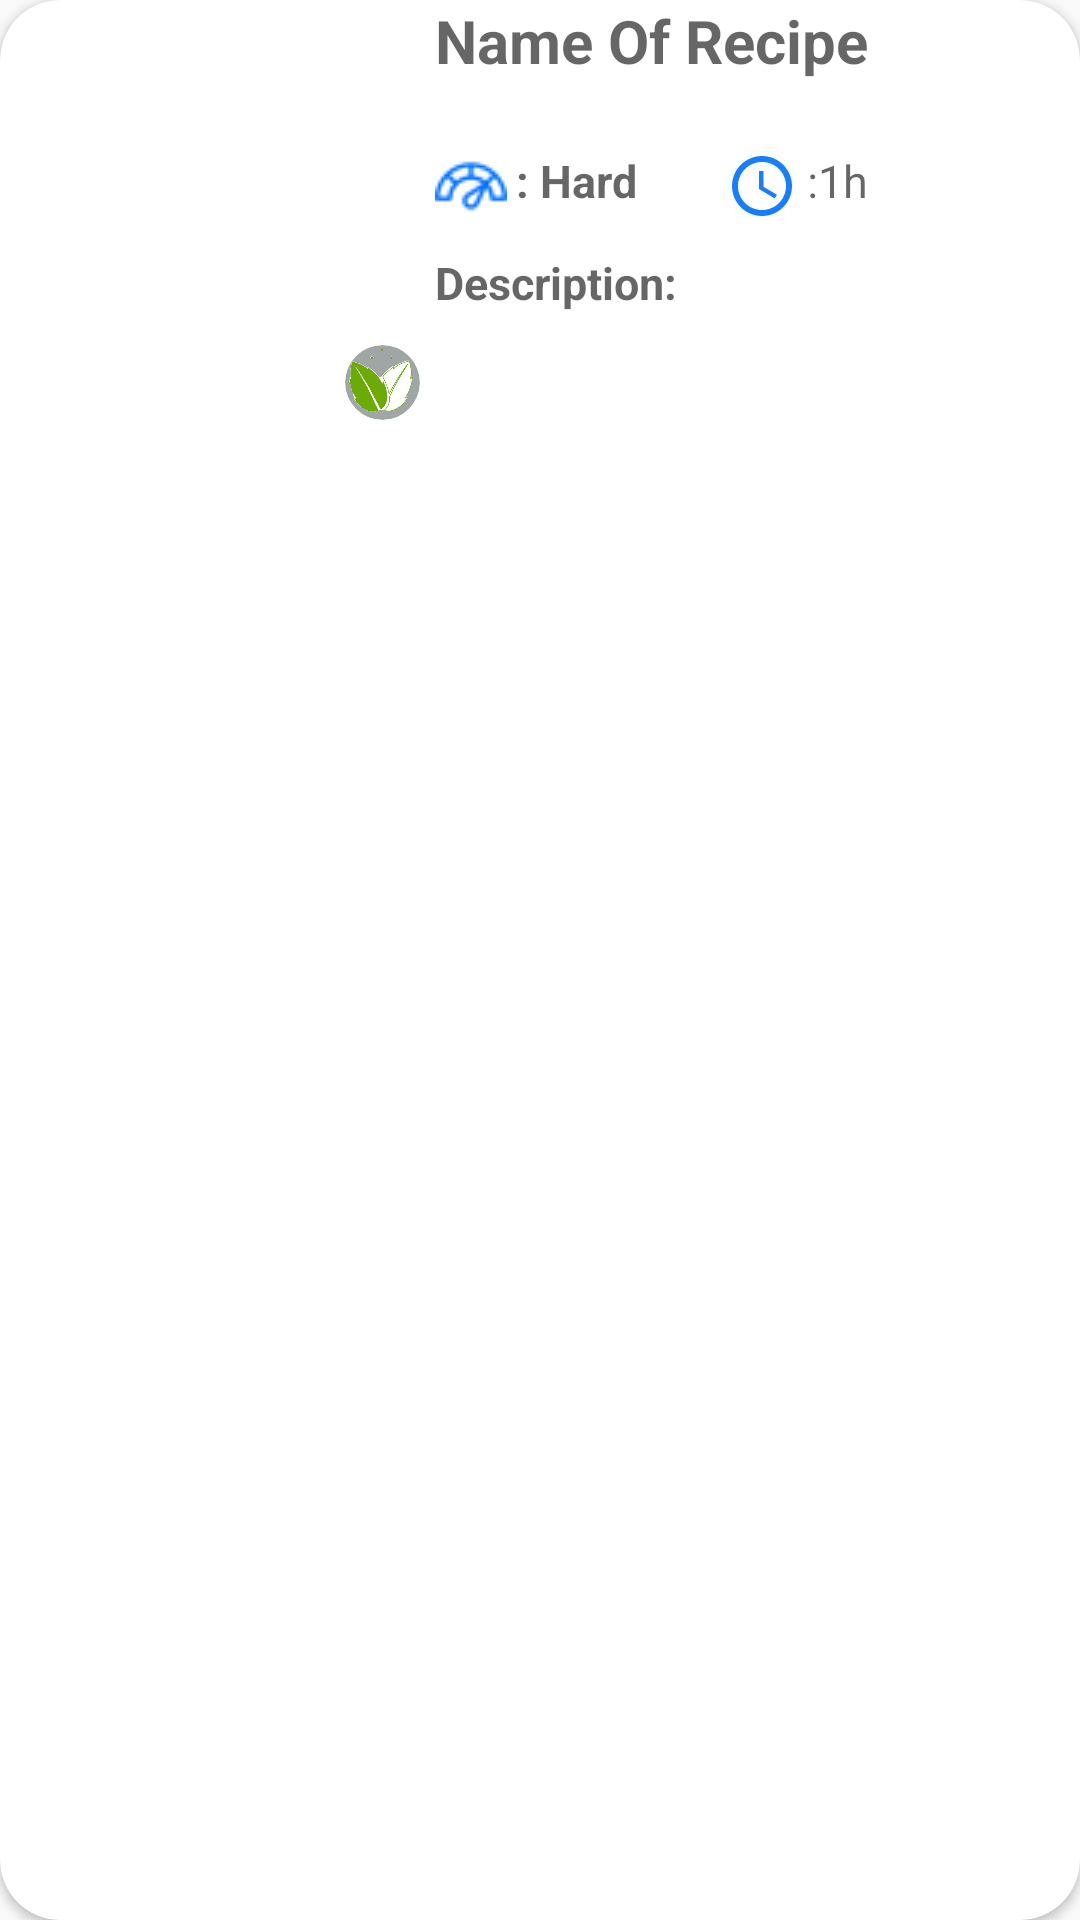

Screen size 1080px x 1920px. Icon name, then its center in pixels as [x,y]:
difficulty level: [471,186]
time simbole: [762,186]
vigen: [382,382]
